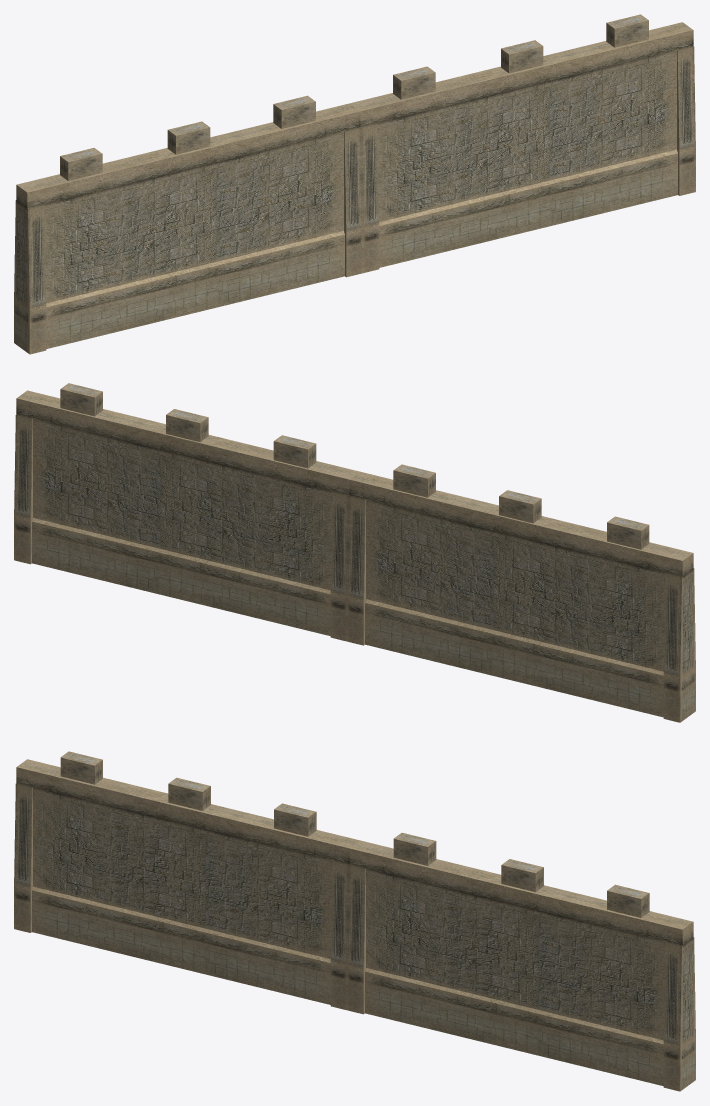
File: desert-bigdam-03.fbx
3 views of the same model, one above another, from view 1: azimuth 30°, elevation 25°; view 2: azimuth 150°, elevation 25°; view 3: azimuth 330°, elevation 25° (orthographic).
Parts seen in each view (by area): view 1: desert-bigdam-01; view 2: desert-bigdam-01; view 3: desert-bigdam-01.
Part boxes in pixels (left/top/right/bottom): desert-bigdam-01: left=14, top=14, right=695, bottom=354; desert-bigdam-01: left=14, top=383, right=695, bottom=722; desert-bigdam-01: left=14, top=751, right=695, bottom=1091.
Bounding box in the file's own units: 20.01 × 5.14 × 0.8224.
